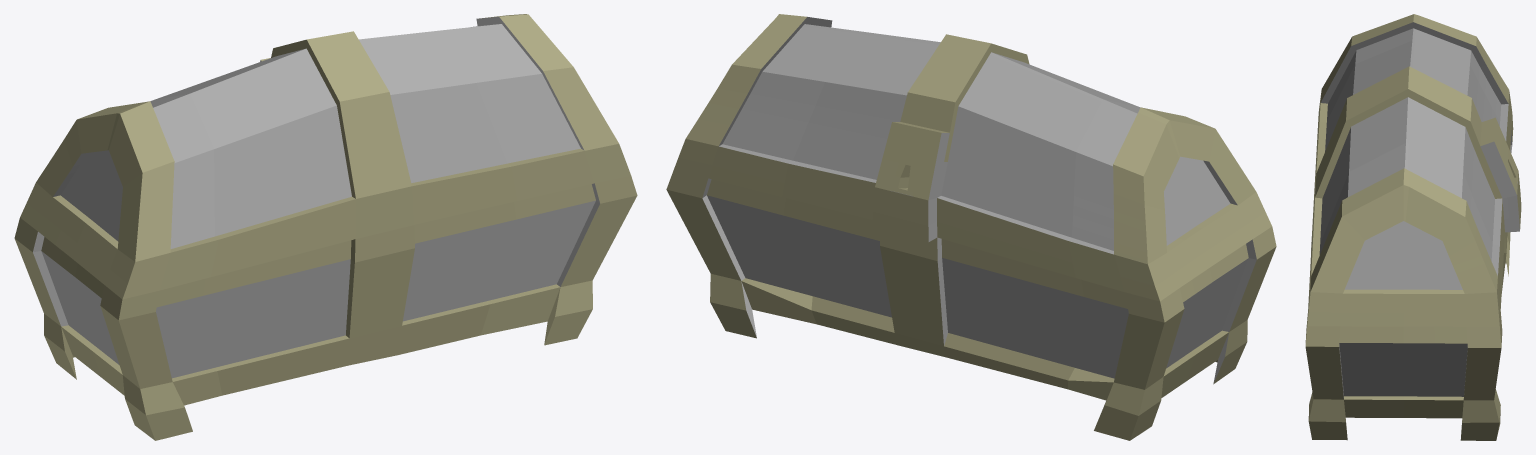
The model's file is chest (1).fbx.
3 views of the same model, side by side, from view 1: azimuth 30°, elevation 25°; view 2: azimuth 150°, elevation 25°; view 3: azimuth 270°, elevation 25° (orthographic). The views are drawn at different scales.
Visible parts, largest first — view 1: Barrel; view 2: Barrel; view 3: Barrel.
Part boxes in pixels (x1=…): Barrel: x1=14, y1=14, x2=637, y2=440; Barrel: x1=666, y1=14, x2=1276, y2=440; Barrel: x1=1305, y1=14, x2=1521, y2=440.
Size of the model in its own units: 6.88 by 4.04 by 2.78.
